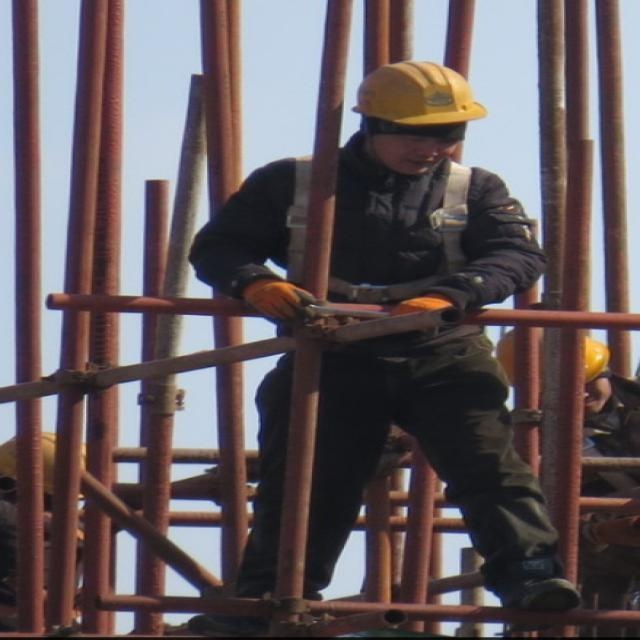Arnes_seguridad: (276, 148, 481, 314)
